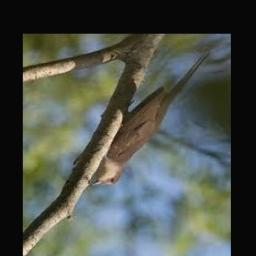Cuckoo: (91, 50, 210, 187)
